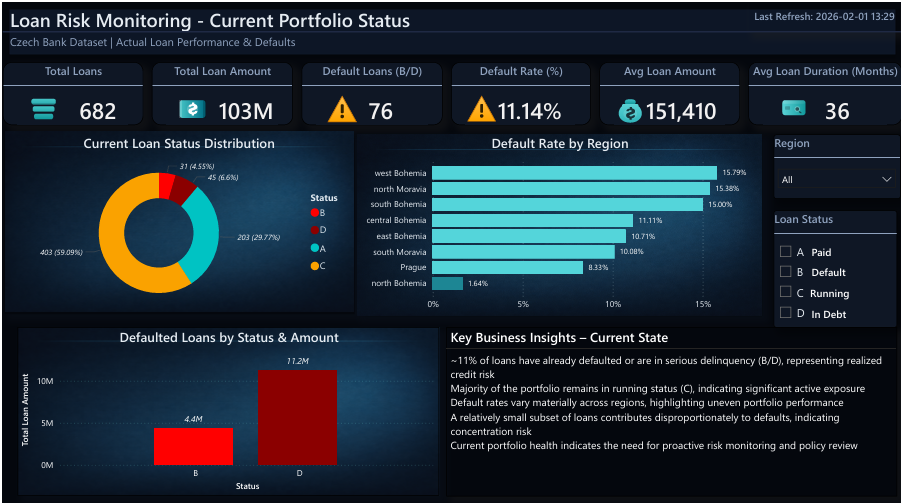

What the dashboard file says about the page in this screenshot:
{"tool":"powerbi","page":{"name":"Loan Risk Monitoring","canvas":[1280,720],"ordinal":0},"visuals":[{"type":"shape","box":[0,0,1279.7,83.5],"z":0},{"type":"image","box":[4.2,183.2,495.4,257.3],"z":0,"group":"g1"},{"type":"image","box":[504.8,186.9,575.8,258],"z":0,"group":"g3"},{"type":"image","box":[21.8,461.5,600,240],"z":0,"group":"g4"},{"type":"textbox","box":[5,0,608.2,49.9],"z":1000},{"type":"slicer","title":"Loan Status","fields":{"Values":["Master_Table.Status"]},"box":[1097.1,294.6,175.7,167],"z":1000,"group":"g2"},{"type":"textbox","box":[5,38.6,555.9,34.9],"z":2000},{"type":"shape","box":[0,35.3,1280,11.2],"z":3000},{"type":"textbox","box":[1145.9,426.5,73.6,34.6],"z":3000,"group":"g2"},{"type":"card","title":"Total Loans","fields":{"Values":["Key_Measures.Last Refresh"]},"box":[1060.6,0,216.9,42.4],"z":4000},{"type":"cardVisual","title":" Total Loans","fields":{"Data":["Key_Measures.Total Loans"]},"box":[0,84.3,200,90],"z":5000},{"type":"textbox","box":[1144.4,397.6,73.6,34.6],"z":5000,"group":"g2"},{"type":"cardVisual","title":" Total Loan Amount","fields":{"Data":["Key_Measures.Total Loan Amount"]},"box":[212,83.6,201.1,90.8],"z":6000},{"type":"cardVisual","title":"Default Loans (B/D)","fields":{"Data":["Key_Measures.Default Loans(B/D)"]},"box":[425.1,83.6,201.1,90.8],"z":7000},{"type":"textbox","box":[1145.9,367.3,73.6,34.6],"z":7000,"group":"g2"},{"type":"group","id":"g1","title":"Group 1","box":[1,183.2,499.8,260.5],"z":8000},{"type":"cardVisual","title":"Default Rate (%)","fields":{"Data":["Key_Measures.Default rate1"]},"box":[638.1,83.6,199.3,90.8],"z":9000},{"type":"textbox","box":[1145.9,338.5,73.6,34.6],"z":9000,"group":"g2"},{"type":"cardVisual","title":"Avg Loan Amount","fields":{"Data":["Key_Measures.DefaultAVGLoanAmount_Display"]},"box":[849.4,83.6,199.3,90.8],"z":10000},{"type":"cardVisual","title":"Avg Loan Duration (Months)","fields":{"Data":["Key_Measures.DefaultAVGDuration_Display"]},"box":[1060.8,83.6,218.9,90.8],"z":11000},{"type":"clusteredBarChart","title":"Default Rate by Region","fields":{"Category":["Master_Table.Region"],"Y":["Key_Measures.Default rate1"]},"box":[504.8,185.7,575.8,260.5],"z":12000,"group":"g3"},{"type":"donutChart","title":"Current Loan Status Distribution","fields":{"Y":["Key_Measures.Total Loans"],"Category":["Master_Table.Status"]},"box":[1,185.8,500,257.4],"z":12000,"group":"g1"},{"type":"group","id":"g2","title":"Group 2","box":[1097.1,294.6,175.7,167],"z":12000},{"type":"columnChart","title":"Defaulted Loans by Status & Amount","fields":{"Category":["Master_Table.Status"],"Y":["Key_Measures.Total Loan Amount"]},"box":[21.2,461.1,600,240],"z":12000,"group":"g4"},{"type":"slicer","title":"Region","fields":{"Values":["Master_Table.Region"]},"box":[1096.8,187,180.7,92.2],"z":13000},{"type":"group","id":"g3","title":"Group 3","box":[504.8,185.7,575.8,260.5],"z":14000},{"type":"group","id":"g4","title":"Group 3","box":[21.2,461.1,600.6,240.4],"z":15000},{"type":"textbox","title":"Key Business Insights – Current State","box":[630.7,461.1,641.9,240.5],"z":16000}]}

Visuals, with their boxes in screenshot pixels (x1, y1, x2, y2), scaled from the page's 1280x720 canvas onto the 901x503 screenshot:
shape: (0, 0, 900, 58)
image: (3, 128, 352, 308)
image: (355, 131, 761, 311)
image: (15, 322, 438, 490)
textbox: (4, 0, 432, 35)
"Loan Status" slicer: (772, 206, 896, 322)
textbox: (4, 27, 395, 51)
shape: (0, 25, 900, 32)
textbox: (807, 298, 858, 322)
"Total Loans" card: (747, 0, 899, 30)
" Total Loans" cardVisual: (0, 59, 141, 122)
textbox: (806, 278, 857, 302)
" Total Loan Amount" cardVisual: (149, 58, 291, 122)
"Default Loans (B/D)" cardVisual: (299, 58, 441, 122)
textbox: (807, 257, 858, 281)
"Group 1" group: (1, 128, 353, 310)
"Default Rate (%)" cardVisual: (449, 58, 589, 122)
textbox: (807, 236, 858, 261)
"Avg Loan Amount" cardVisual: (598, 58, 738, 122)
"Avg Loan Duration (Months)" cardVisual: (747, 58, 900, 122)
"Default Rate by Region" clusteredBarChart: (355, 130, 761, 312)
"Current Loan Status Distribution" donutChart: (1, 130, 353, 310)
"Group 2" group: (772, 206, 896, 322)
"Defaulted Loans by Status & Amount" columnChart: (15, 322, 437, 490)
"Region" slicer: (772, 131, 899, 195)
"Group 3" group: (355, 130, 761, 312)
"Group 3" group: (15, 322, 438, 490)
"Key Business Insights – Current State" textbox: (444, 322, 896, 490)
